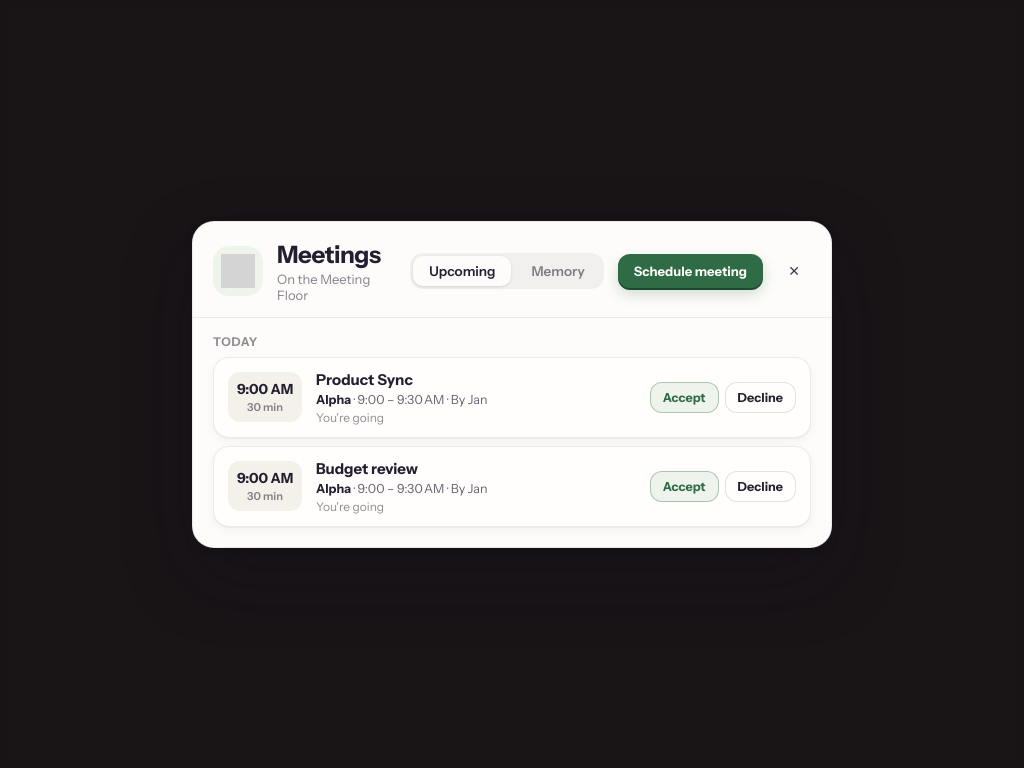
Scenario: Pre-meeting Brief › Memory → Ask your Memory is unchanged
Step 1. Click the tab "Memory" → (558, 271), box left=516, top=256, right=601, bottom=286
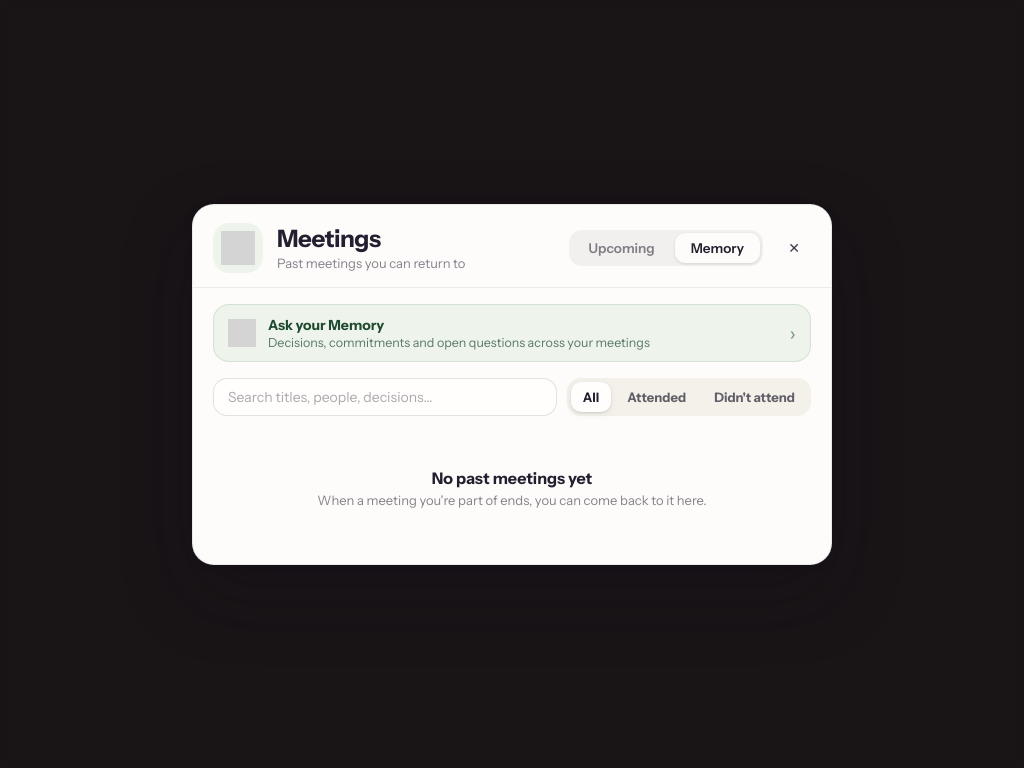
Step 2. Click the button with test id "memory-ask" → (512, 332), box left=213, top=304, right=811, bottom=362
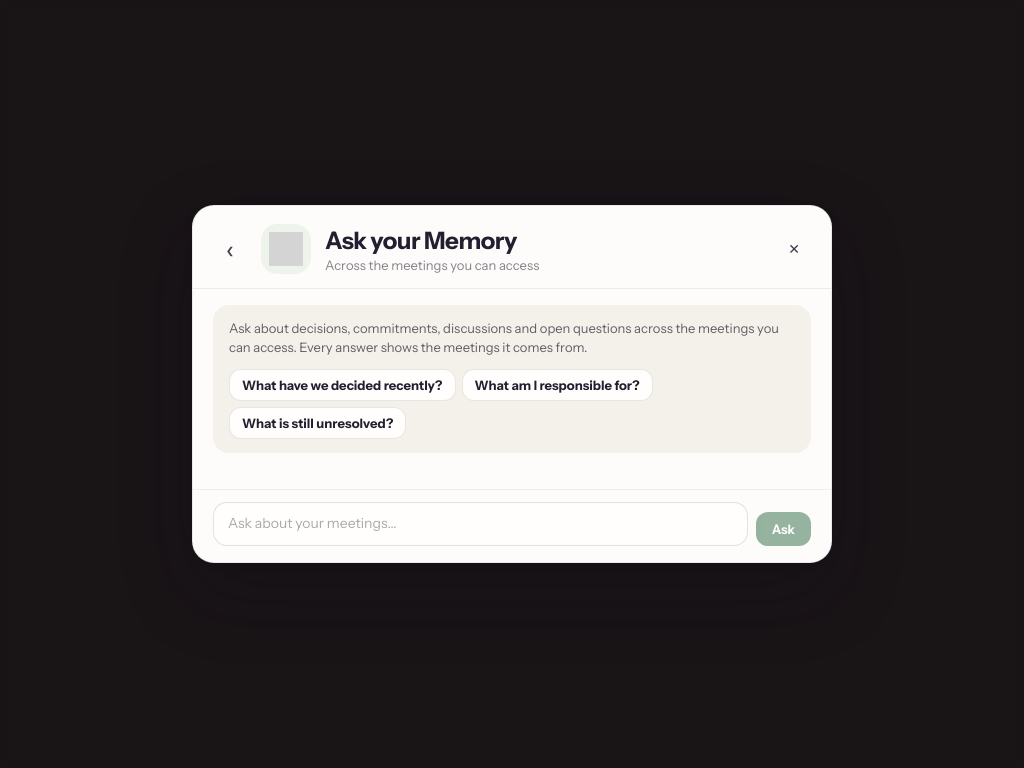
Expected: the element with test id "org-twin" is shown, left=193, top=289, right=831, bottom=489
